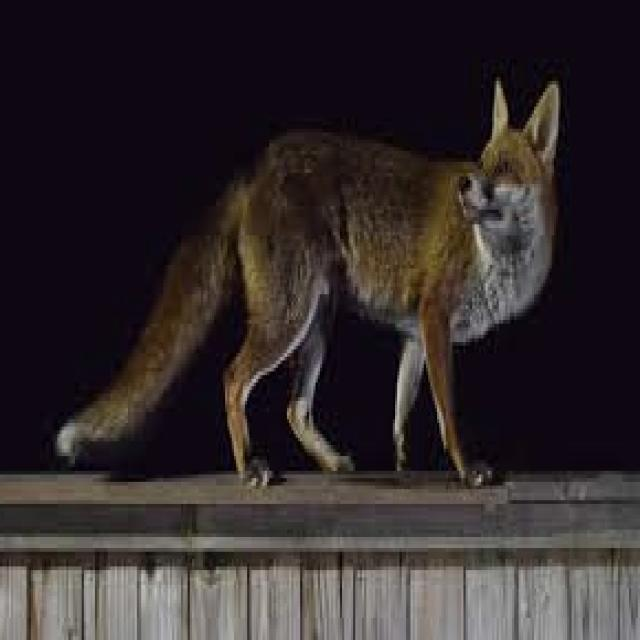fox: (60, 77, 561, 478)
